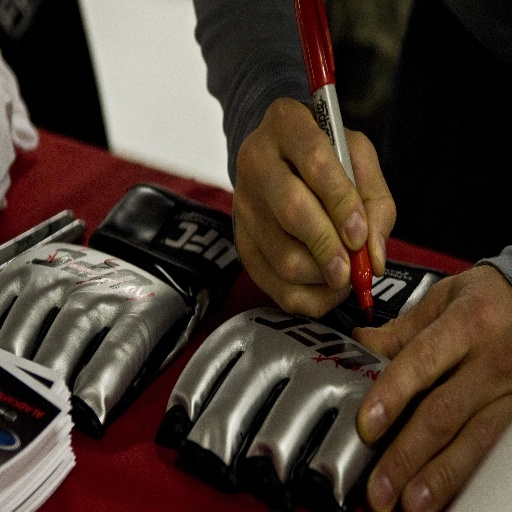hand: (350, 261, 511, 511), (222, 101, 394, 314)
